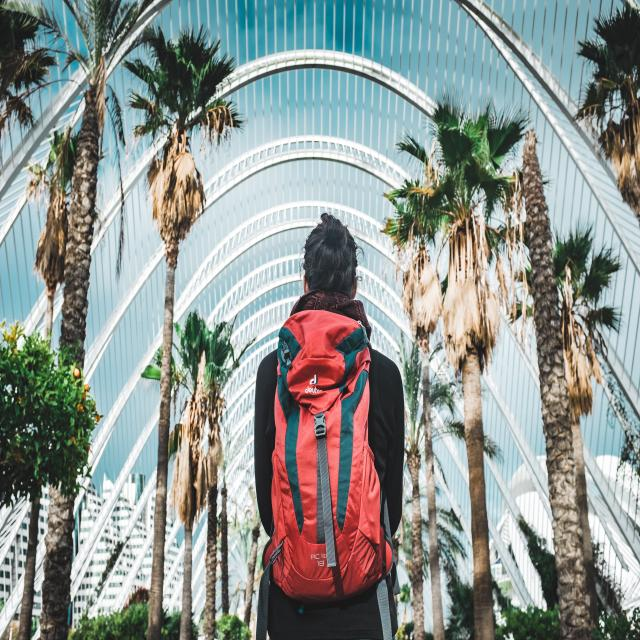backpack: (272, 309, 394, 599)
